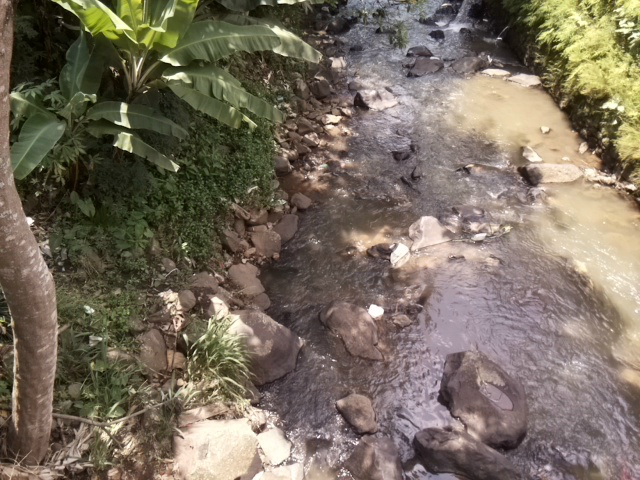Sampah_Plastik: (389, 243, 411, 268)
Sampah_Styrofoam: (369, 301, 386, 321)
